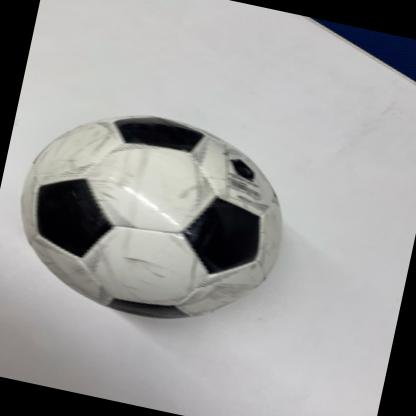ball: (2, 92, 298, 341)
